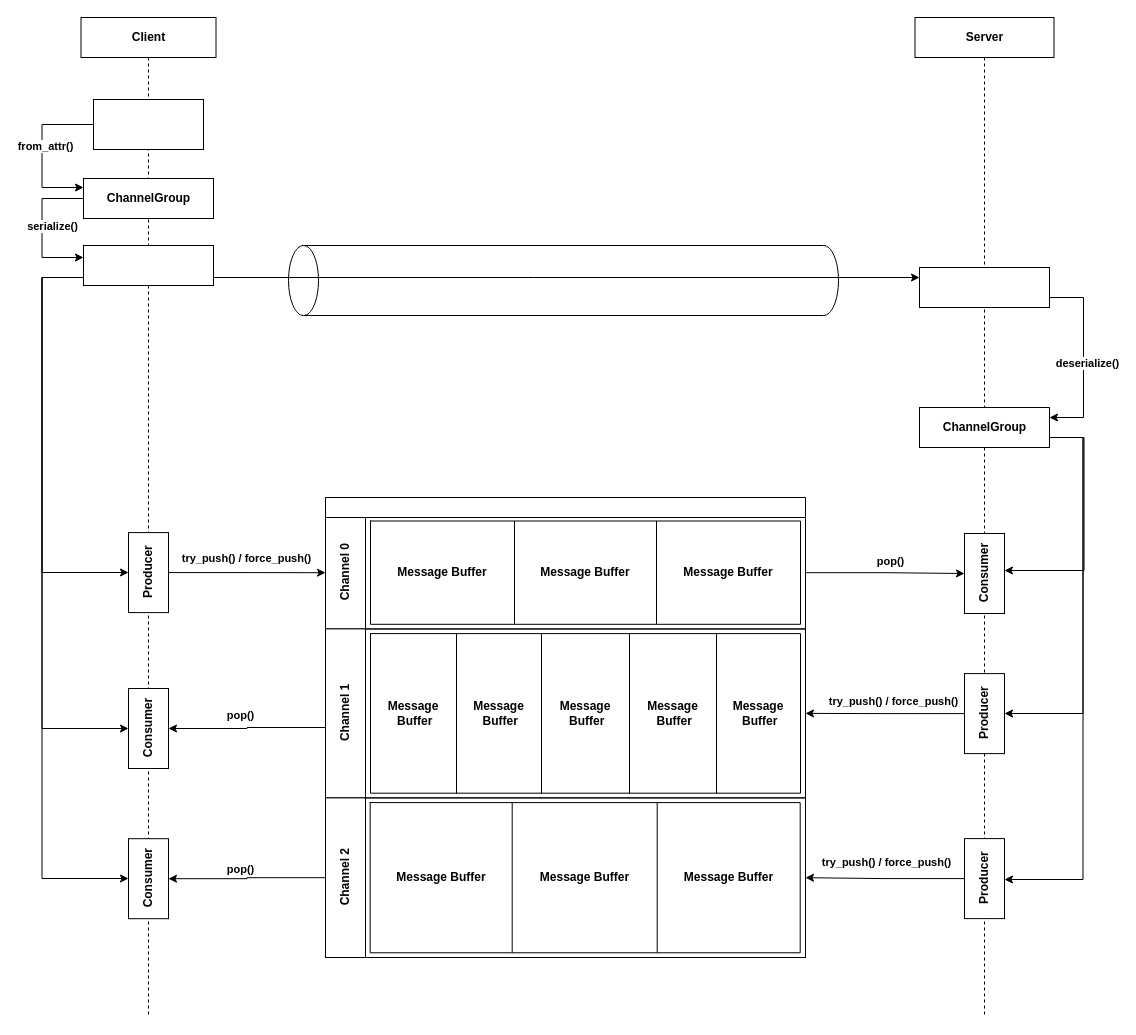
Some shapes in this 1136 by 1035 pixel diagram are drawn without their labels. Here are the shapes that lost their labels. From the top down, the centre of each, then its label:
At point 148,124: "GroupAttr".
At point 148,265: "UnixMessageTx".
At point 563,280: "Unix Domain Socket".
At point 984,287: "Unix MessageRx".
At point 565,727: "Shared Memory".
